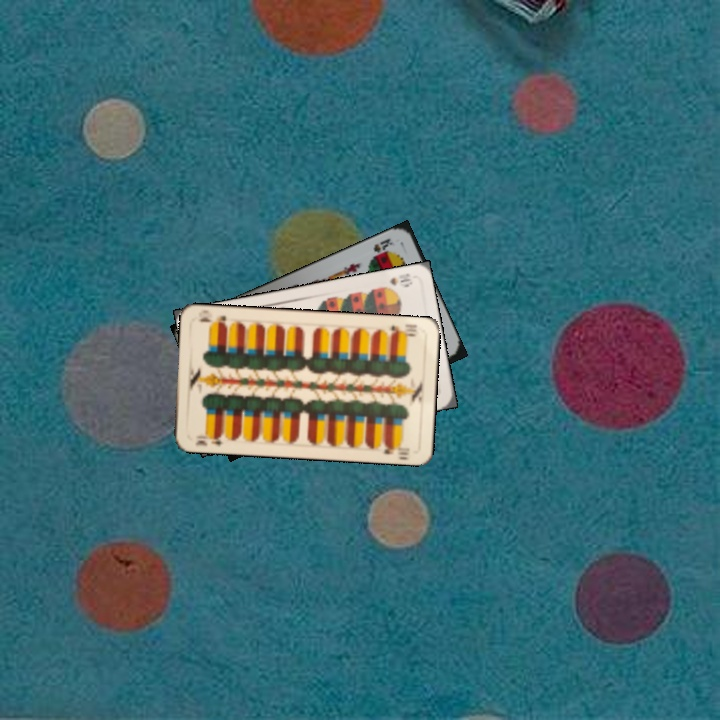E10: (191, 429, 226, 448), (387, 320, 420, 339)
S10: (376, 269, 415, 292)
SK: (369, 234, 395, 255)
